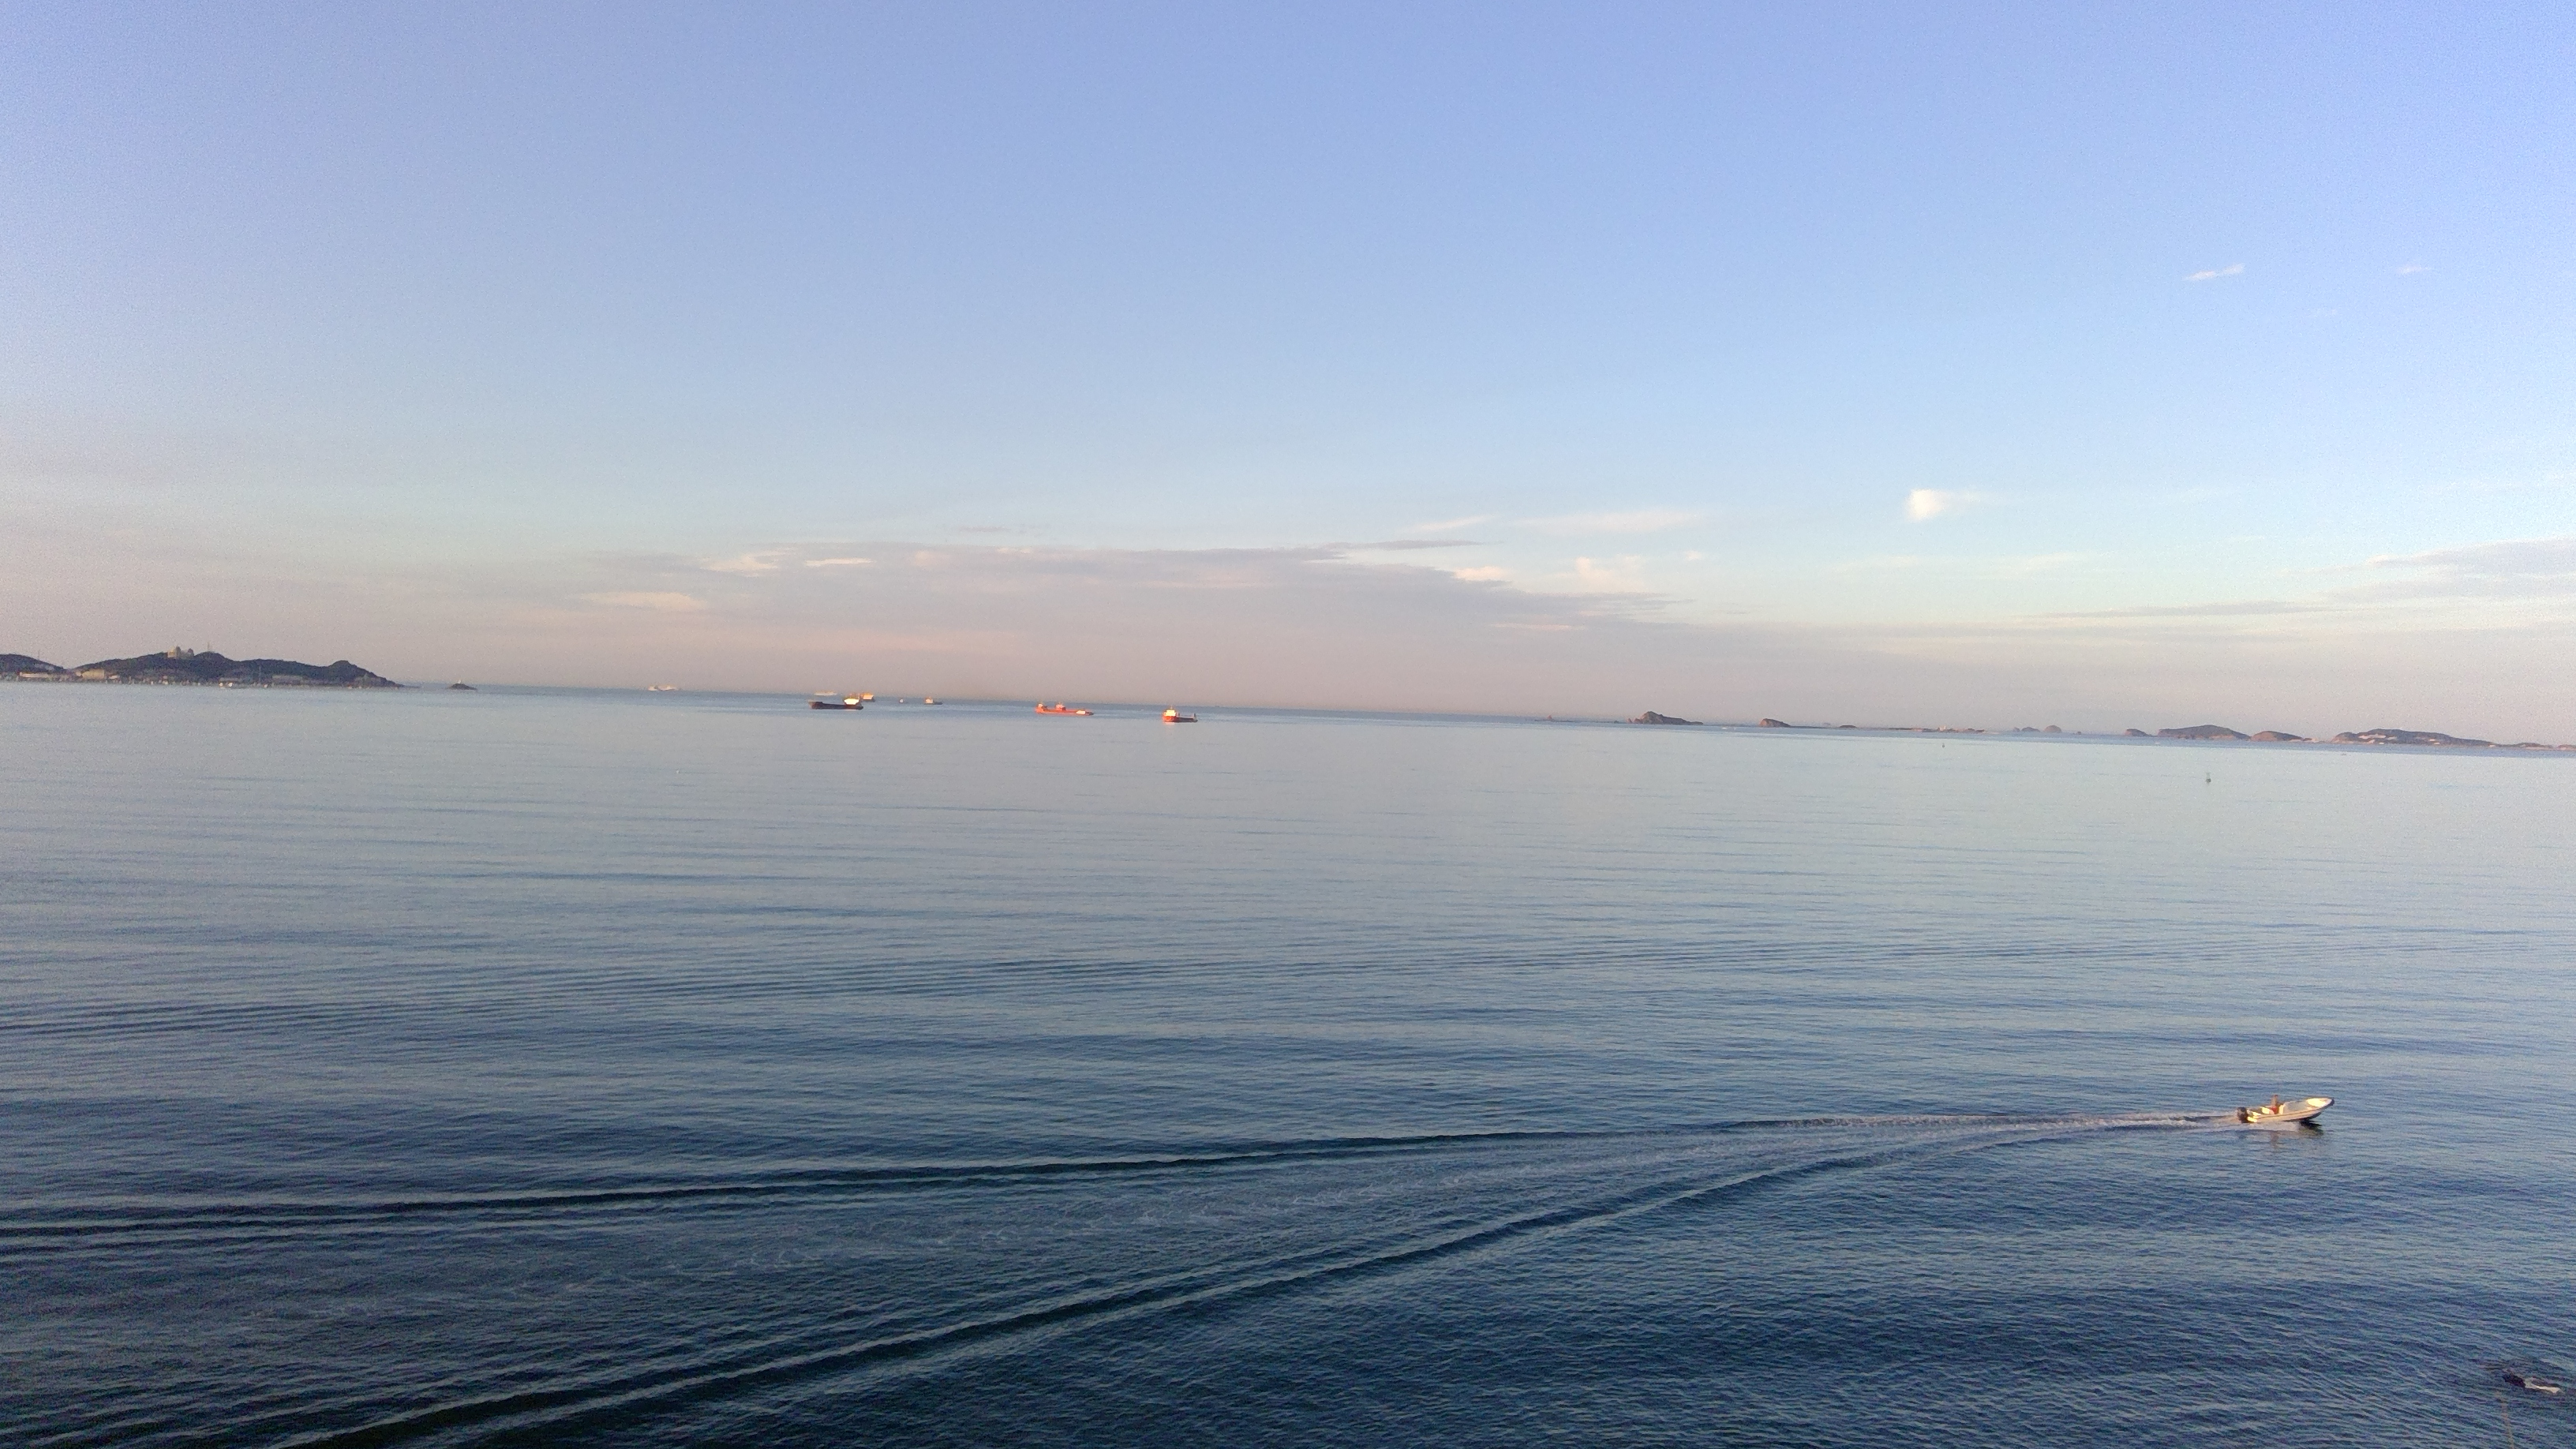boat: (2206, 1058, 2348, 1148)
rock: (2327, 697, 2576, 766), (88, 649, 403, 694), (2143, 701, 2314, 754), (5, 637, 81, 695), (1614, 704, 1707, 734), (1748, 706, 1790, 736)
ship: (812, 674, 885, 722), (1026, 688, 1097, 717), (1157, 701, 1207, 732)
